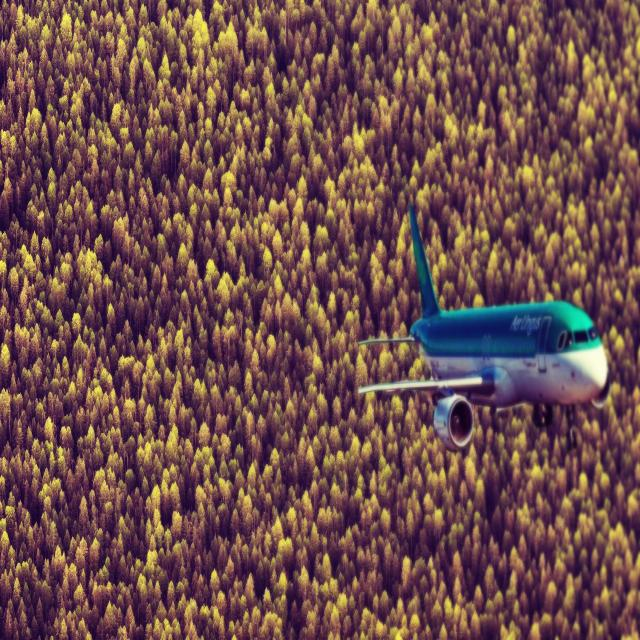airplane: (356, 203, 610, 452)
